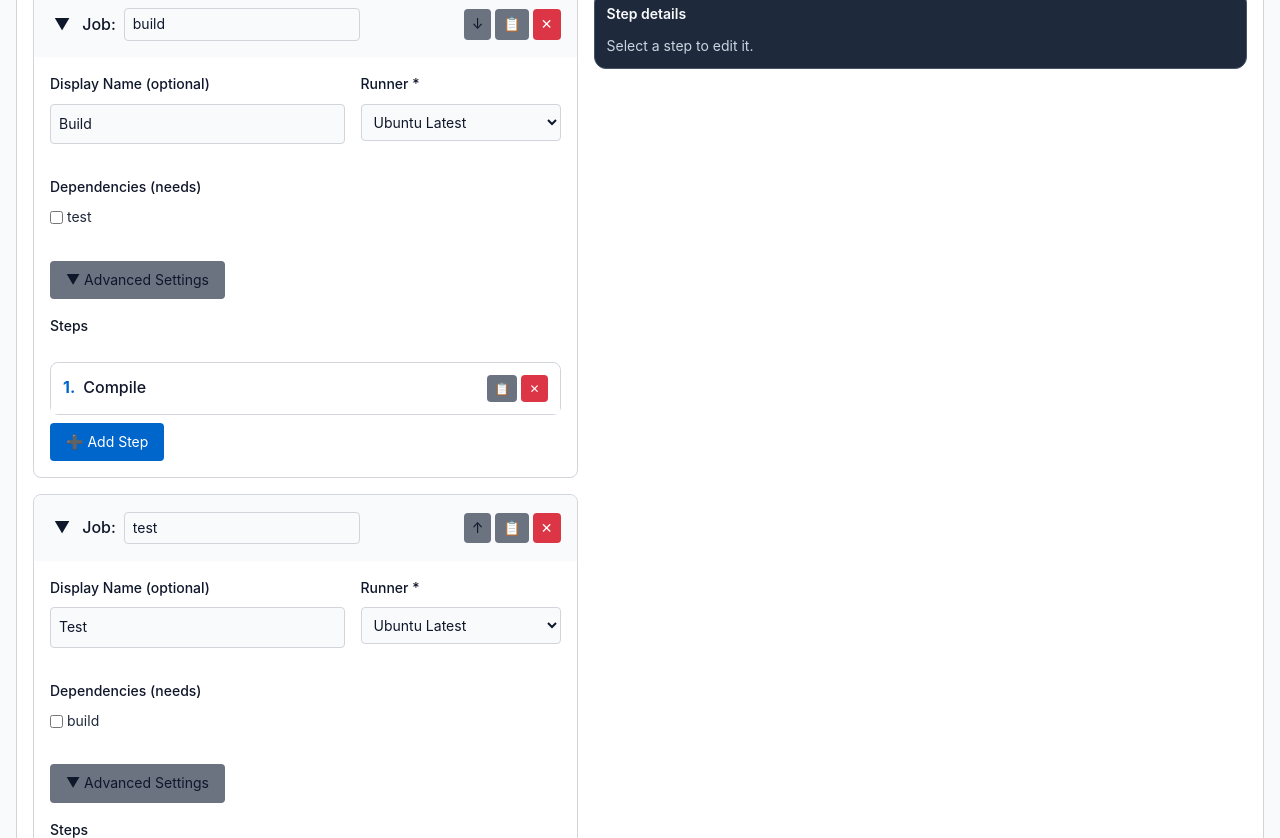
Test: GUIWorkflowEditor step detail panel › remounts the form when switching between same-id steps in different jobs
The width and height of the screenshot is (1280, 838).
(page scrolled)
Click the button "1. Compile".
click(105, 388)  # box x1=63 y1=375 x2=146 y2=401
(page scrolled)
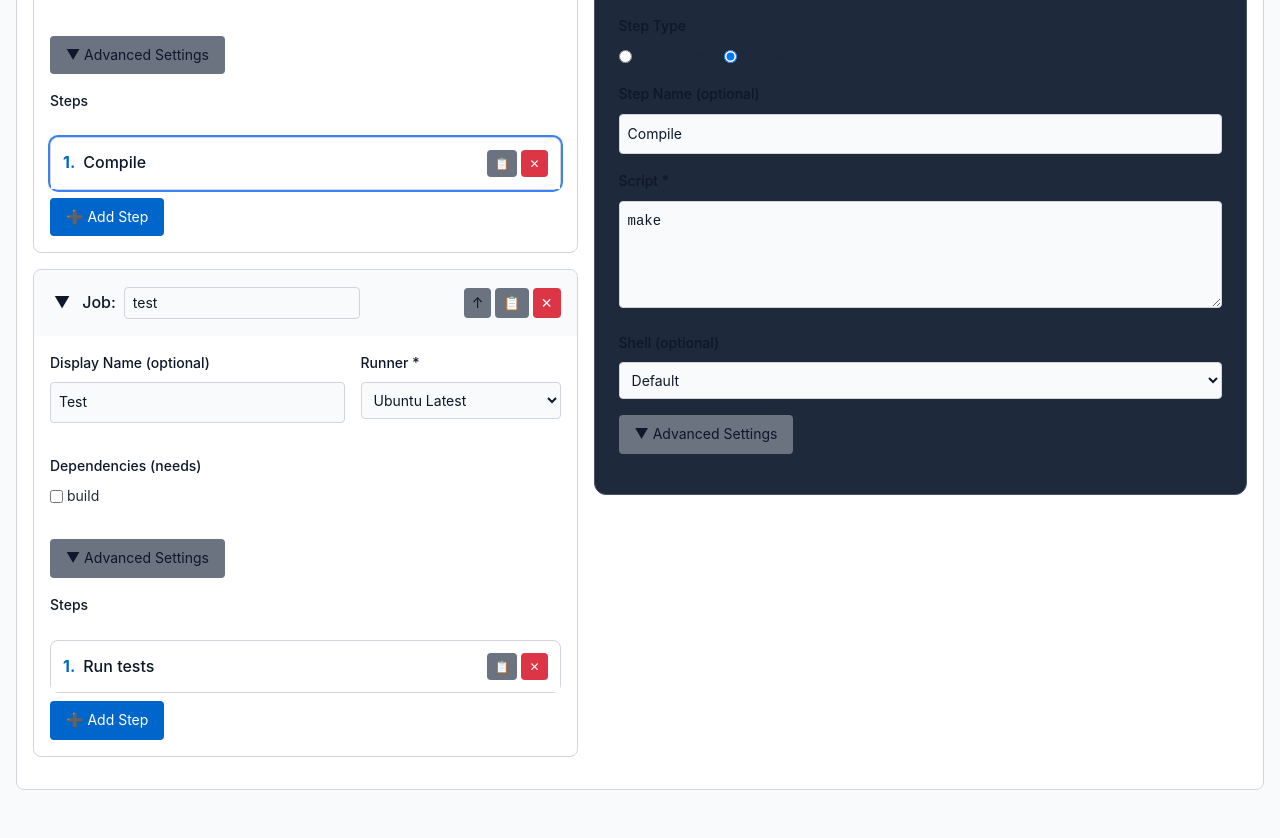
Expected: the radio button labelled "Run Script" is checked, x1=724 y1=50 x2=737 y2=63
Click the button "1. Run tests".
click(109, 667)  # box x1=63 y1=654 x2=154 y2=680
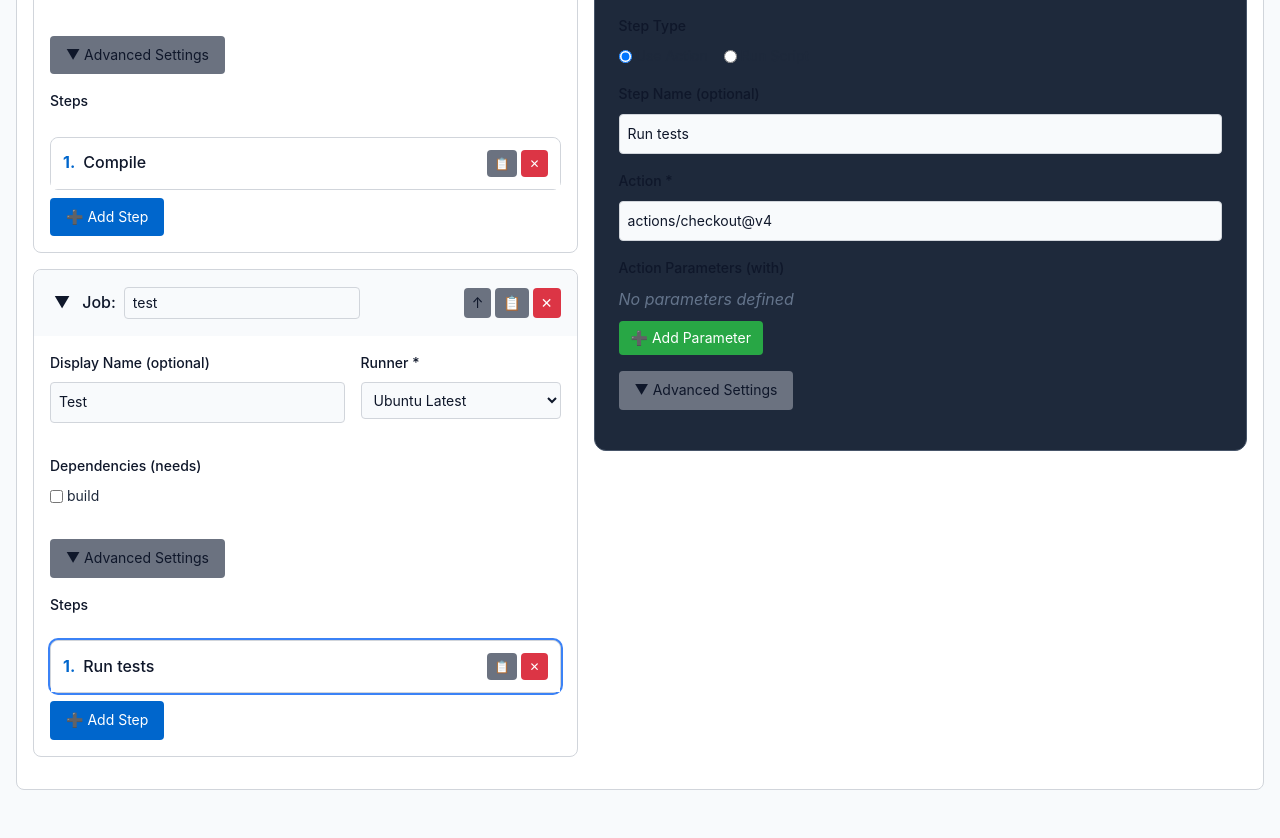
Expected: the radio button named "Use Action" is checked, x1=618 y1=50 x2=632 y2=63
